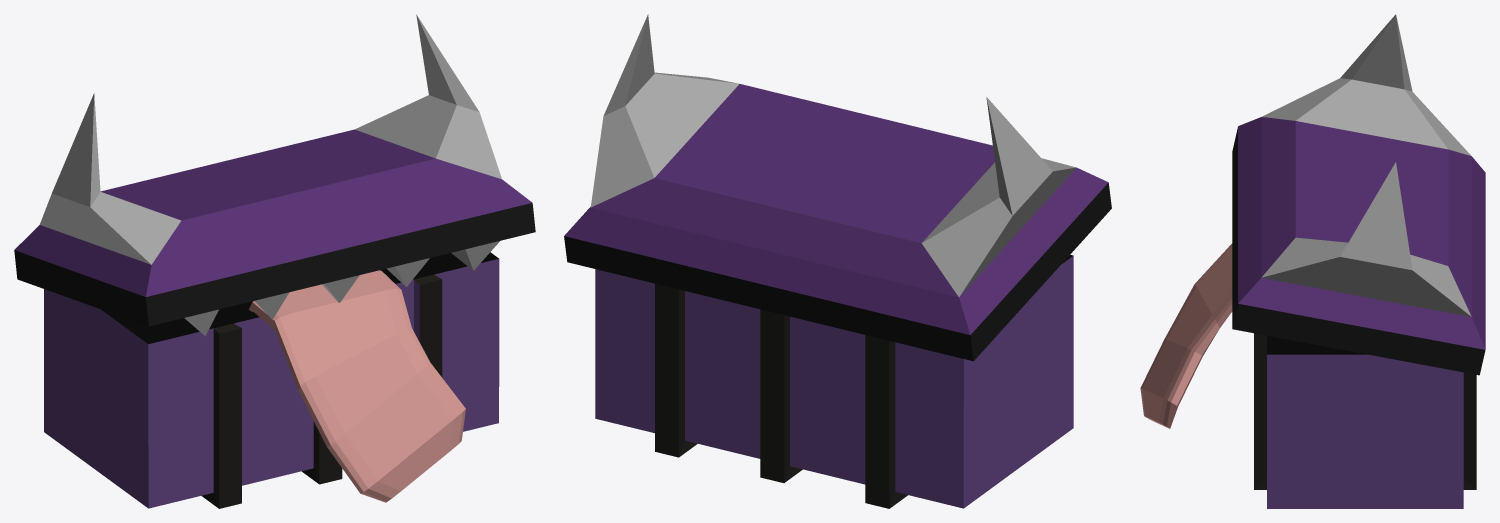
Rendered from CofreMuerte.fbx.
3 views of the same model, side by side, from view 1: azimuth 30°, elevation 25°; view 2: azimuth 150°, elevation 25°; view 3: azimuth 270°, elevation 25° (orthographic). The views are drawn at different scales.
Parts seen in each view (by area): view 1: cofre; view 2: cofre; view 3: cofre.
Part boxes in pixels (box(x1,y1,x2,y2)): cofre: box(14, 14, 535, 508); cofre: box(564, 14, 1111, 508); cofre: box(1140, 14, 1485, 508).
Size of the model in its own units: 83.49 by 76.45 by 68.15.
